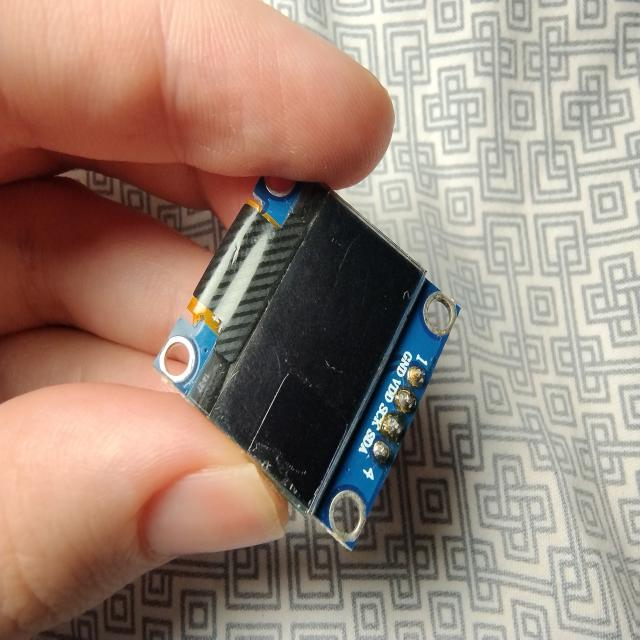oled: (156, 148, 465, 561)
